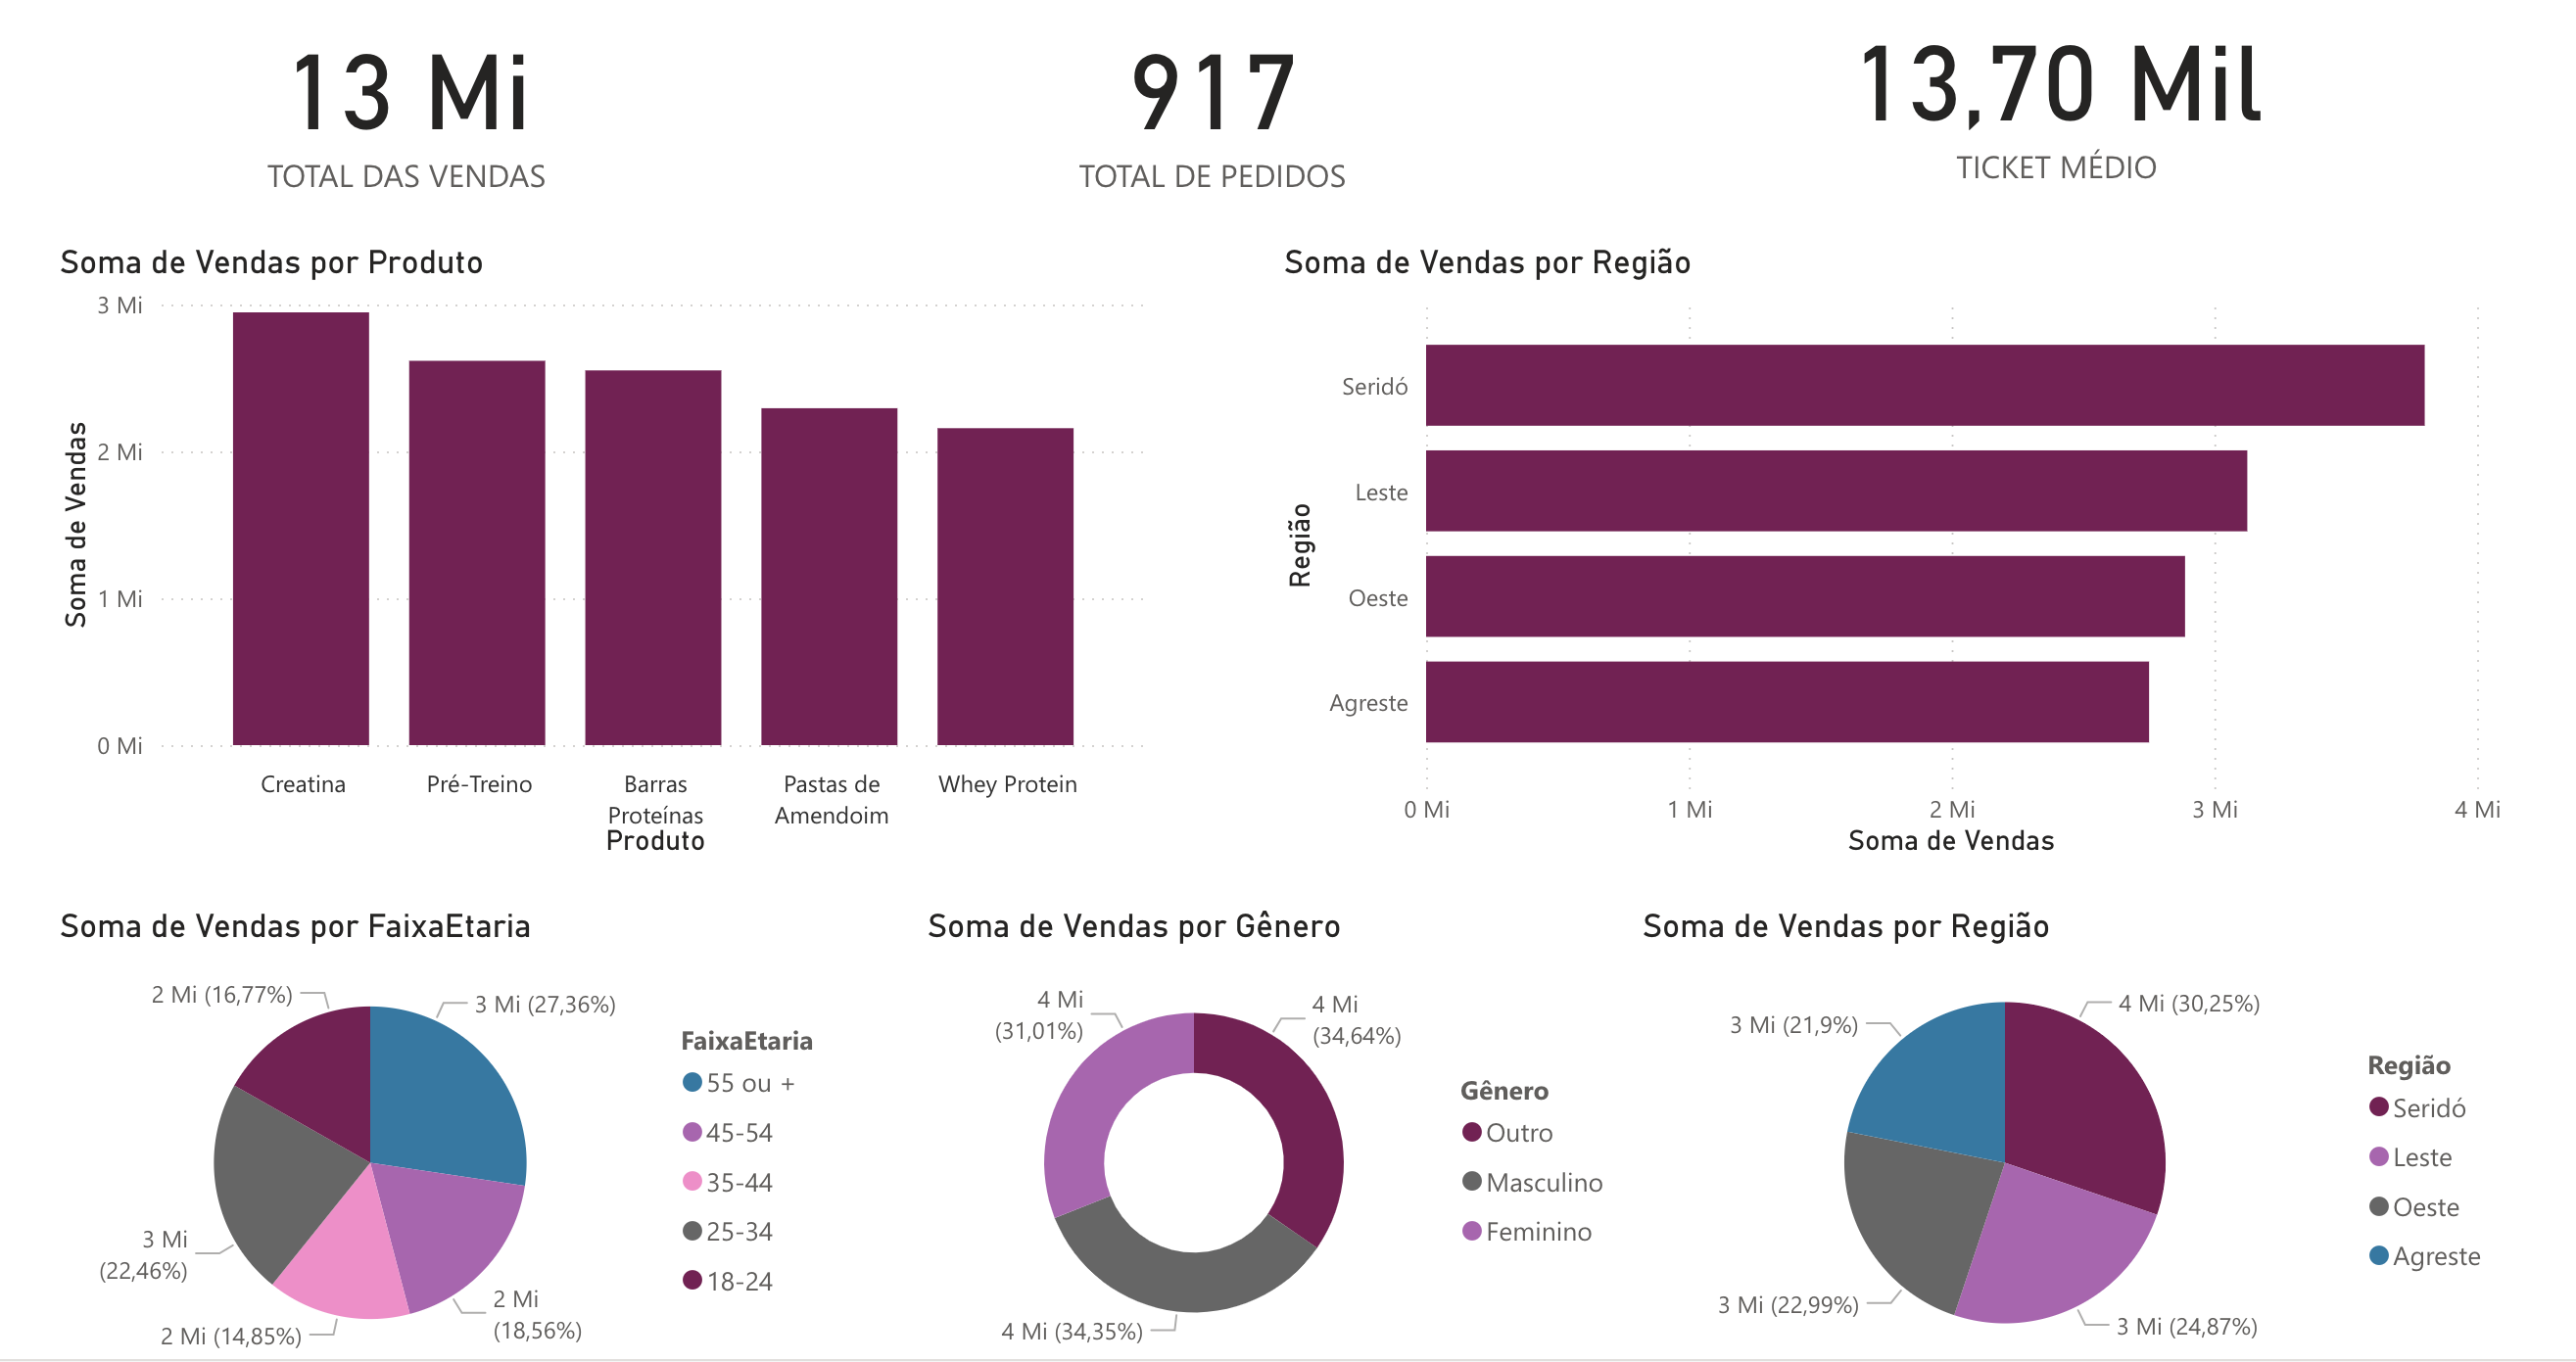

What the dashboard file says about the page in this screenshot:
{"tool":"powerbi","page":{"name":"Página 1","canvas":[1280,720],"ordinal":0},"visuals":[{"type":"card","fields":{"Values":["Sum(VENDAS.Vendas)"]},"box":[65,0,244,127],"z":0},{"type":"card","fields":{"Values":["Sum(VENDAS.Vendas)","Sum(VENDAS.Quantidade)","select"]},"box":[903,0,253,118],"z":1000},{"type":"clusteredColumnChart","fields":{"Category":["VENDAS.Produto"],"Y":["Sum(VENDAS.Vendas)"]},"box":[5,139,566,316],"z":2000},{"type":"barChart","fields":{"Category":["VENDAS.Região"],"Y":["Sum(VENDAS.Vendas)"]},"box":[630,139,631,316],"z":3000},{"type":"pieChart","fields":{"Category":["VENDAS.FaixaEtaria"],"Y":["Sum(VENDAS.Vendas)"]},"box":[4.8,477.8,411.4,242.1],"z":4000},{"type":"donutChart","fields":{"Y":["Sum(VENDAS.Vendas)"],"Category":["VENDAS.Gênero"]},"box":[447.8,477.8,365.5,242.1],"z":5000},{"type":"pieChart","fields":{"Category":["VENDAS.Região"],"Y":["Sum(VENDAS.Vendas)"]},"box":[813,478,448,242],"z":6000},{"type":"card","fields":{"Values":["Sum(VENDAS.Quantidade)"]},"box":[467,0,263,127],"z":6001}]}

Visuals, with their boxes on the page's 1280x720 design canvas (x1, y1, x2, y2). These are canvas units, not pixel positions in the 2576x1362 screenshot, which may show the page scaled, cropped or inside an application window:
card - Sum(VENDAS.Vendas): 65, 0, 309, 127
card - Sum(VENDAS.Vendas) x Sum(VENDAS.Quantidade): 903, 0, 1156, 118
clusteredColumnChart - VENDAS.Produto x Sum(VENDAS.Vendas): 5, 139, 571, 455
barChart - VENDAS.Região x Sum(VENDAS.Vendas): 630, 139, 1261, 455
pieChart - VENDAS.FaixaEtaria x Sum(VENDAS.Vendas): 5, 478, 416, 720
donutChart - Sum(VENDAS.Vendas) x VENDAS.Gênero: 448, 478, 813, 720
pieChart - VENDAS.Região x Sum(VENDAS.Vendas): 813, 478, 1261, 720
card - Sum(VENDAS.Quantidade): 467, 0, 730, 127
